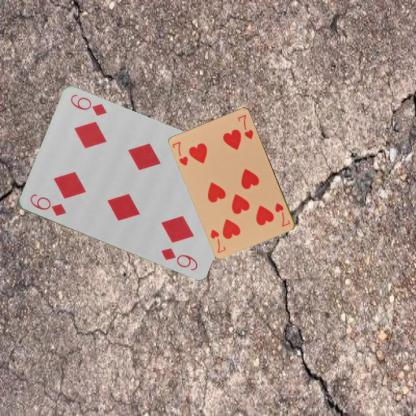6d: (26, 191, 68, 218)
7h: (170, 139, 189, 168), (273, 200, 291, 228)
